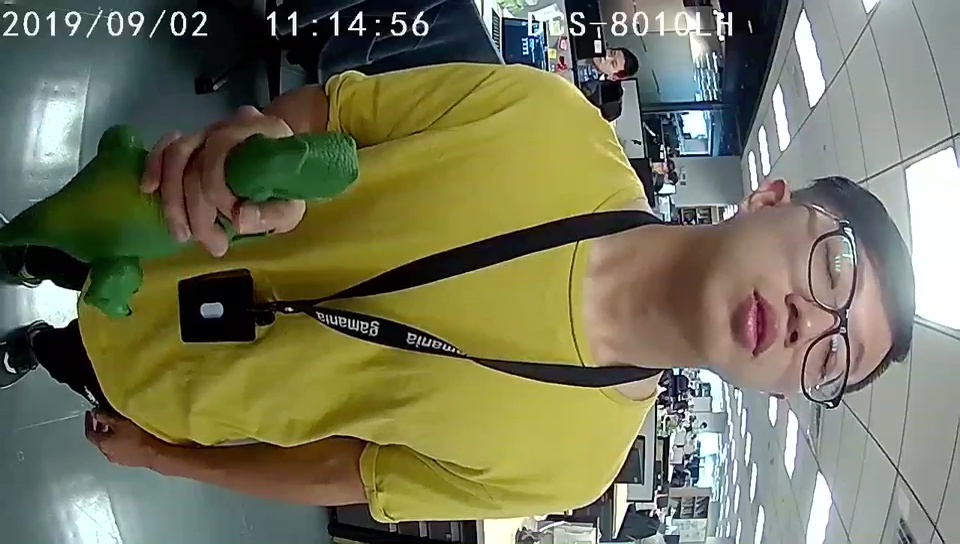rex: (70, 132, 358, 313)
